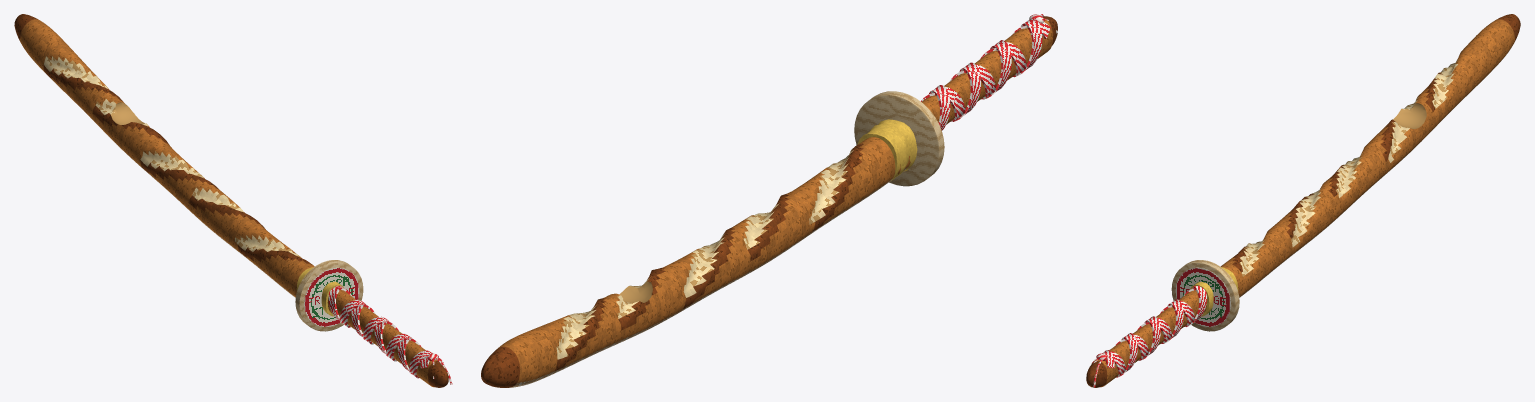
Rendered from w_katana_baguette.glb.
The picture shows the model from 3 angles, left to right: view 1: azimuth 30°, elevation 25°; view 2: azimuth 150°, elevation 25°; view 3: azimuth 330°, elevation 25°; orthographic projection. The views are drawn at different scales.
Visible parts, largest first — view 1: bk_blade_wzB, bk_tsuka_wzA, bk_fit_wzN, bk_fit_wzA; view 2: bk_blade_wzB, bk_tsuka_wzA, bk_fit_wzA, bk_fit_wzB; view 3: bk_blade_wzB, bk_tsuka_wzA, bk_fit_wzN, bk_fit_wzA.
Boxes of the visible parts, x1=… form: bk_blade_wzB: x1=14, y1=14, x2=314, y2=297; bk_tsuka_wzA: x1=327, y1=285, x2=452, y2=387; bk_fit_wzN: x1=304, y1=267, x2=359, y2=326; bk_fit_wzA: x1=295, y1=260, x2=363, y2=331; bk_blade_wzB: x1=481, y1=137, x2=910, y2=387; bk_tsuka_wzA: x1=921, y1=14, x2=1057, y2=130; bk_fit_wzA: x1=854, y1=91, x2=944, y2=186; bk_fit_wzB: x1=857, y1=119, x2=917, y2=181; bk_blade_wzB: x1=1220, y1=14, x2=1520, y2=297; bk_tsuka_wzA: x1=1086, y1=285, x2=1207, y2=387; bk_fit_wzN: x1=1175, y1=267, x2=1230, y2=326; bk_fit_wzA: x1=1171, y1=260, x2=1239, y2=331.
Bounding box in the file's own units: 0.0836 × 0.1162 × 0.971.
8 materials, 8 textured.
